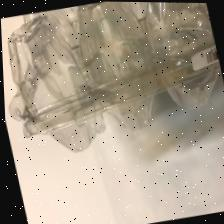plastic: (7, 1, 219, 152)
